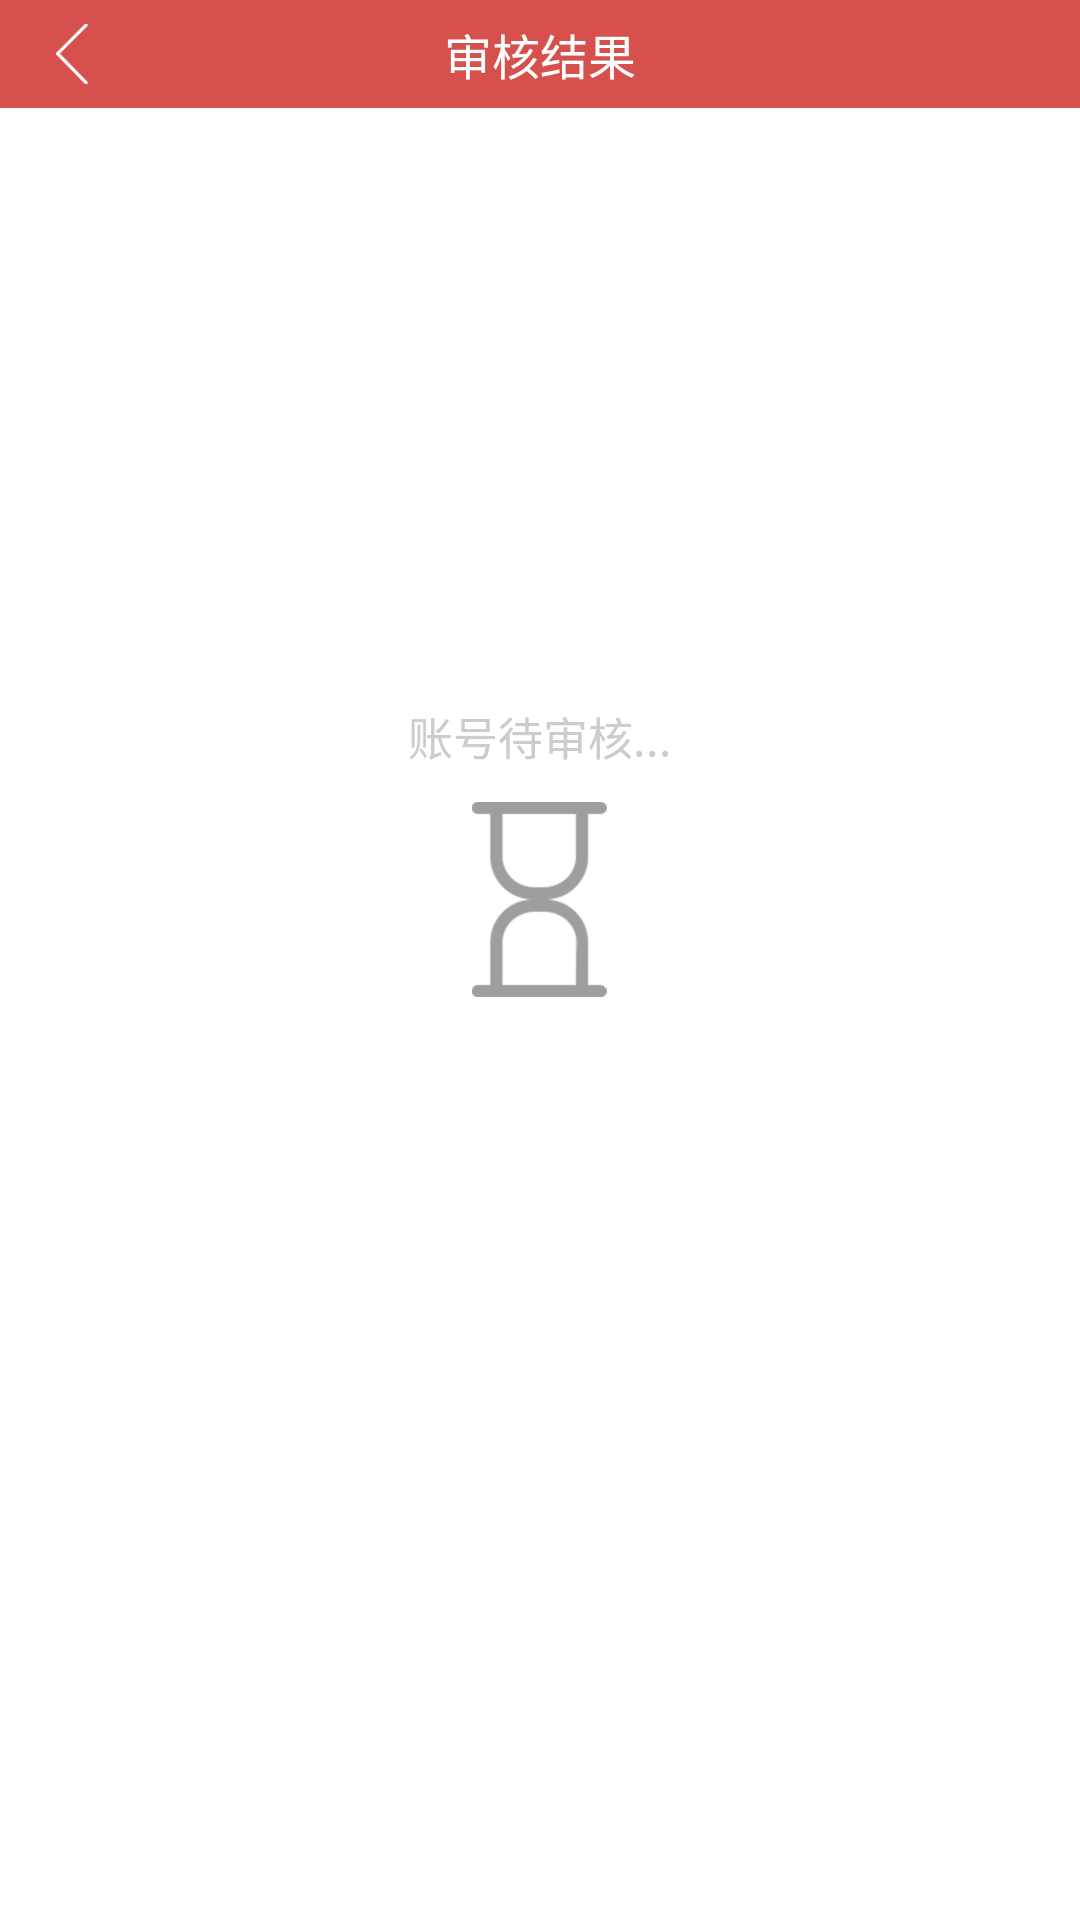

Where to tap for icons on this 1080px x 1920px app screen, as [x,y]:
detailback: [72,54]
waiting: [539,899]
